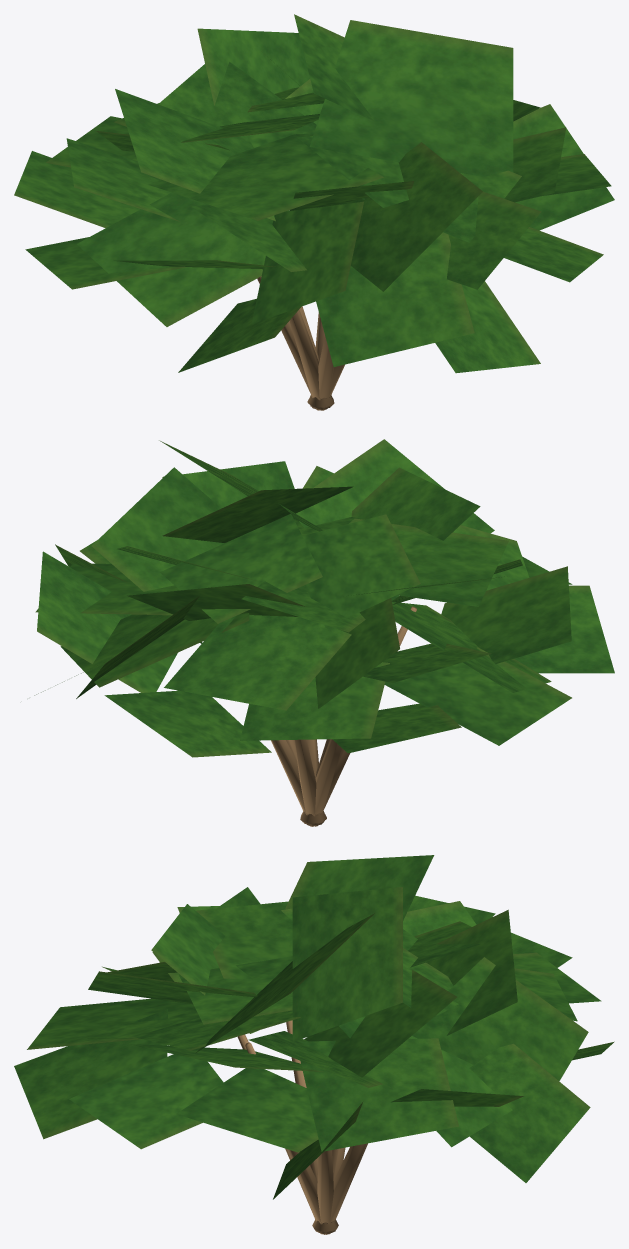
Rendered from bush_tropical_01_lod1.glb.
3 views of the same model, one above another, from view 1: azimuth 30°, elevation 25°; view 2: azimuth 150°, elevation 25°; view 3: azimuth 270°, elevation 25° (orthographic). The views are drawn at different scales.
Visible parts, largest first — view 1: Bush_Tropical_01.001; view 2: Bush_Tropical_01.001; view 3: Bush_Tropical_01.001.
Boxes of the visible parts, x1=… form: Bush_Tropical_01.001: x1=14, y1=14, x2=614, y2=410; Bush_Tropical_01.001: x1=34, y1=439, x2=614, y2=826; Bush_Tropical_01.001: x1=14, y1=855, x2=614, y2=1234.
Size of the model in its own units: 1.49 by 0.9896 by 1.53.
Materials: 2 (2 with a texture image).
